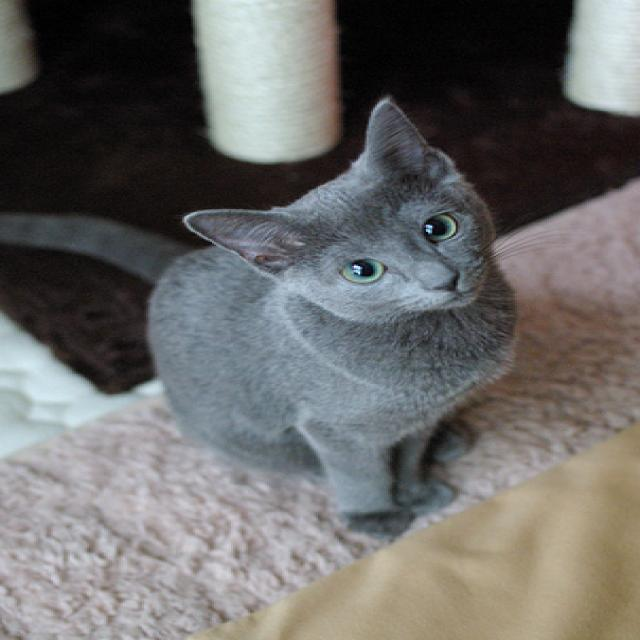Russian Blue: (0, 91, 528, 545)
